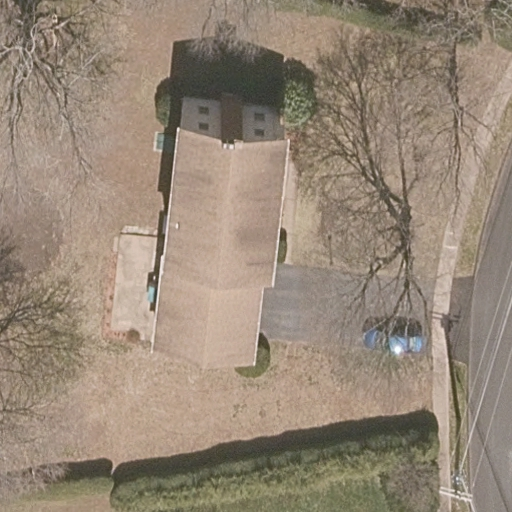DT: (438, 471, 474, 503)
